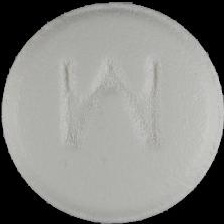55154-6239: (0, 0, 224, 224)
